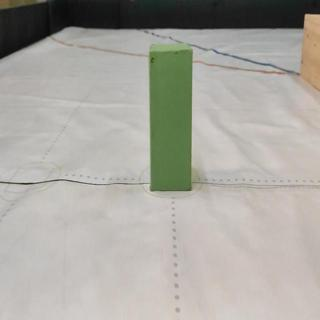greenbox: (150, 44, 192, 193)
